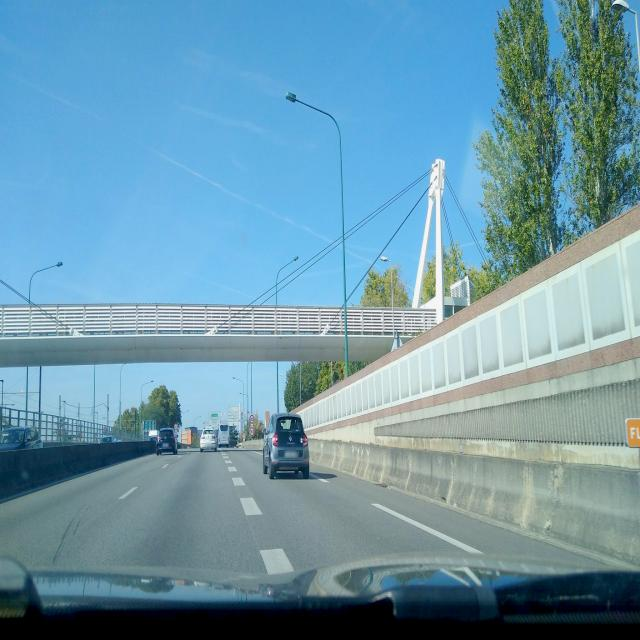car: (262, 411, 310, 480), (0, 426, 42, 451), (156, 428, 178, 455), (199, 426, 219, 452), (218, 422, 230, 448), (228, 426, 239, 446), (101, 434, 117, 444)
